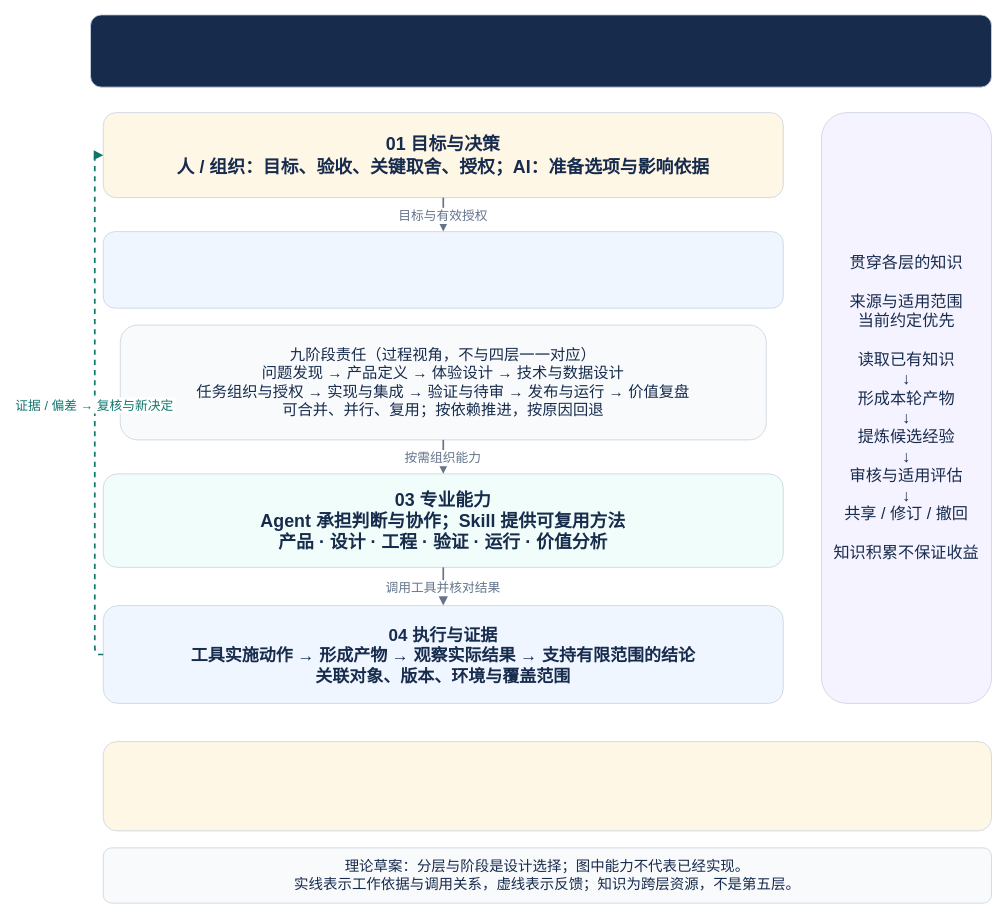
This 1006x918 diagram has some shape labels left out. The shapes that lost their labels are listed below. From the top down, each one's centre as x and y in pixels, then its label:
At (541,50): "AI 自交付 · 整体架构 职责分层 × 交付过程 × 证据反馈".
At (442,269): "02 交付组织 依赖与协作 · 阶段推进 · 变更影响 · 阻塞与恢复".
At (547,786): "四种判断分别成立 工程验证：符合检查条件 ｜ 用户验收：被接受 发布运行：目标环境中的实际状态 ｜ 价值观察：是否产生收益".
